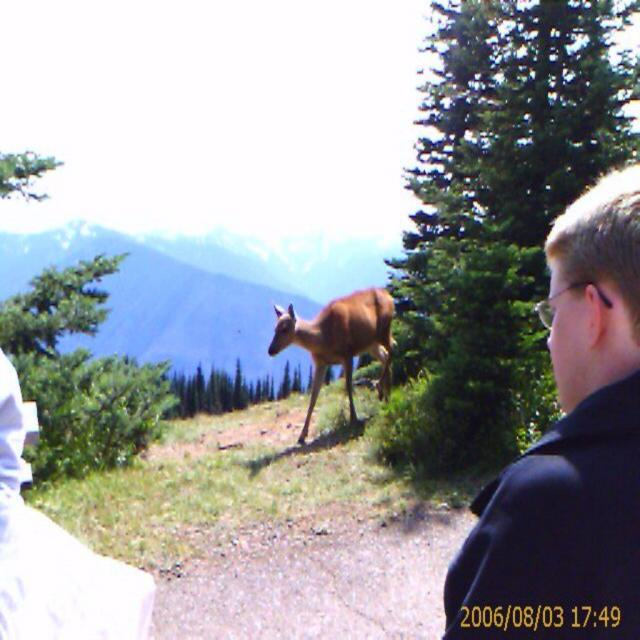Deer: (268, 287, 400, 444)
